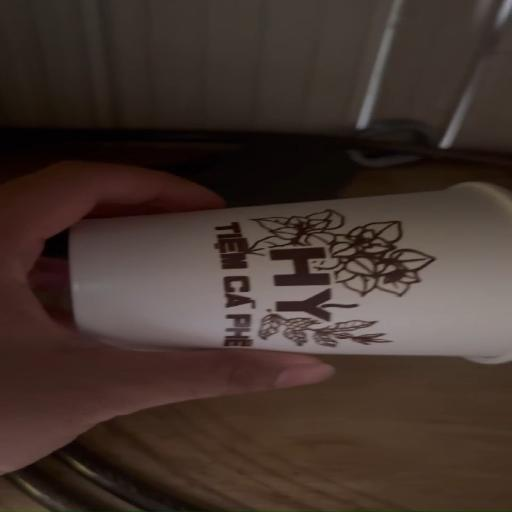ly_giay: (69, 182, 511, 363)
